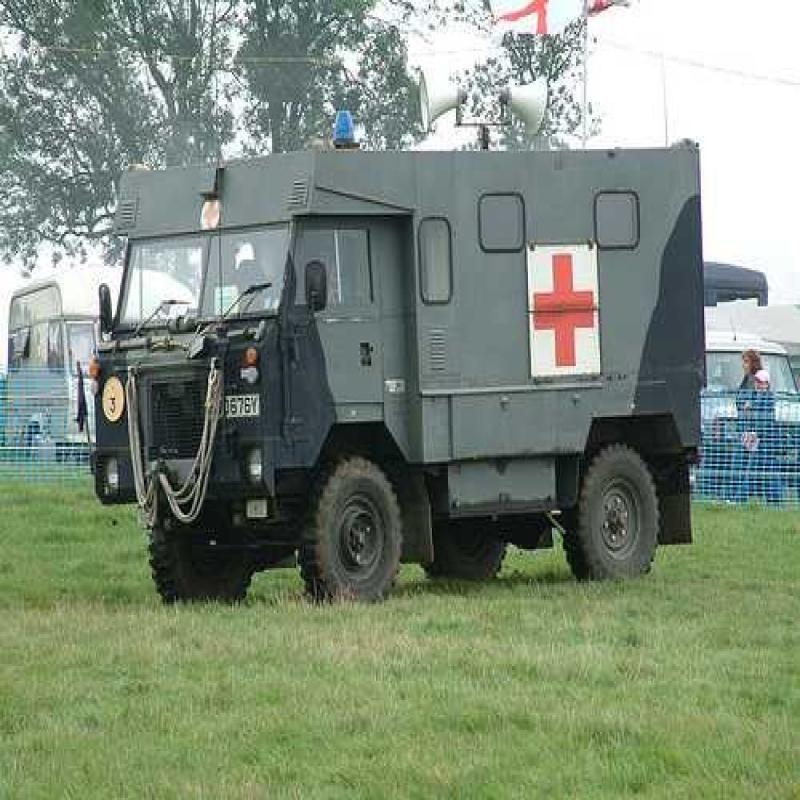AmbulanceSiren: (318, 98, 384, 159)
